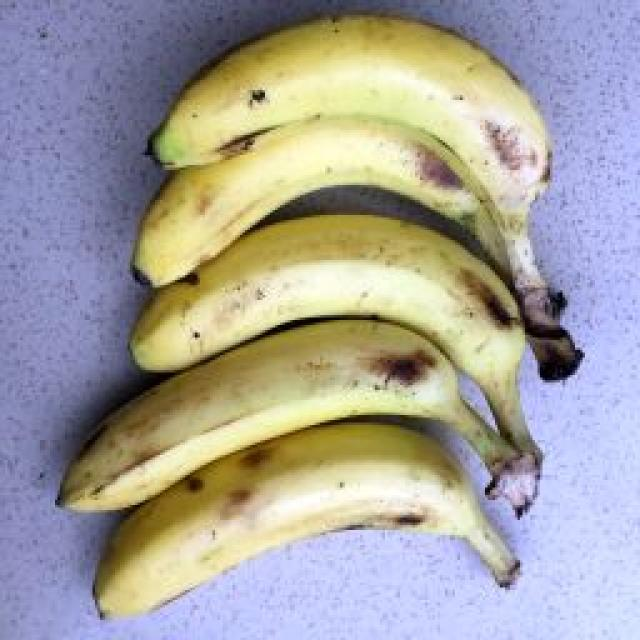banana: (79, 113, 620, 640)
